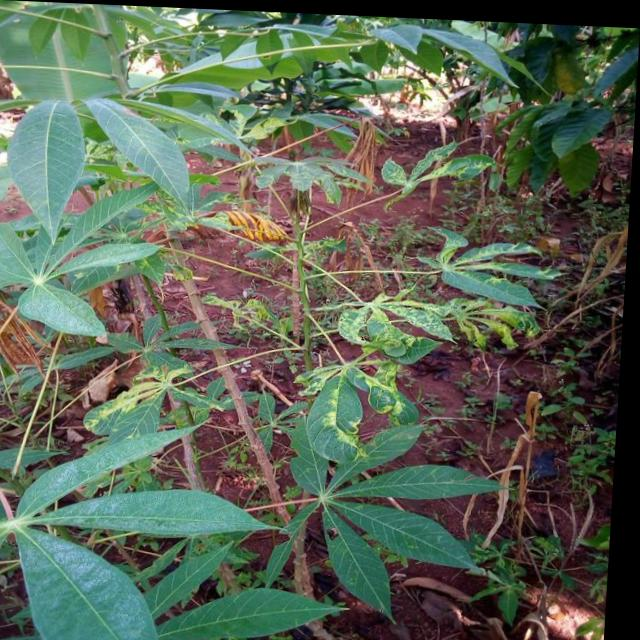Mosaico: (423, 216, 540, 327), (299, 346, 405, 443), (82, 358, 209, 438), (432, 278, 543, 365), (347, 286, 464, 364)
